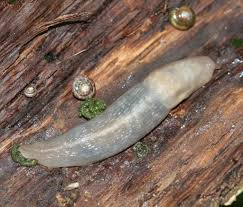slug: (24, 55, 214, 171)
